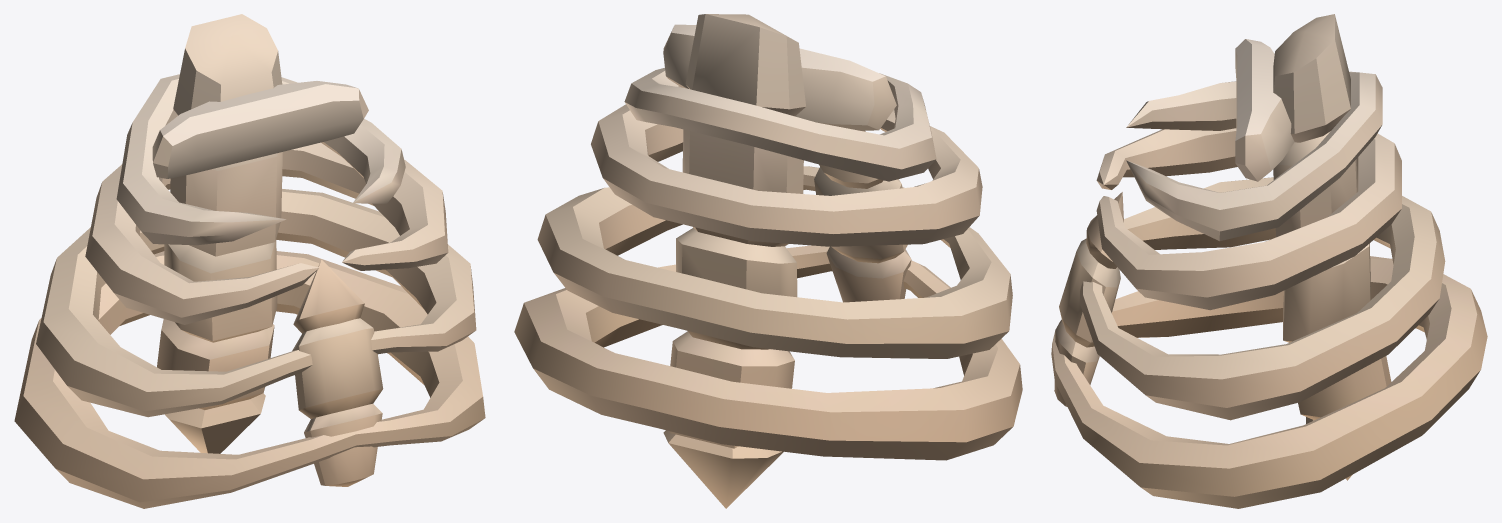
The model's file is d_kaykit_ossements.glb.
3 renders of one model, left to right at view 1: azimuth 30°, elevation 25°; view 2: azimuth 150°, elevation 25°; view 3: azimuth 270°, elevation 25°, orthographic. The views are drawn at different scales.
Visible parts, largest first — view 1: d_kaykit_ossements; view 2: d_kaykit_ossements; view 3: d_kaykit_ossements.
Boxes of the visible parts, x1=… form: d_kaykit_ossements: x1=14, y1=14, x2=485, y2=508; d_kaykit_ossements: x1=514, y1=14, x2=1022, y2=508; d_kaykit_ossements: x1=1051, y1=14, x2=1487, y2=508.
Bounding box in the file's own units: 0.8457 × 0.8582 × 0.7469.
1 material, 1 textured.
